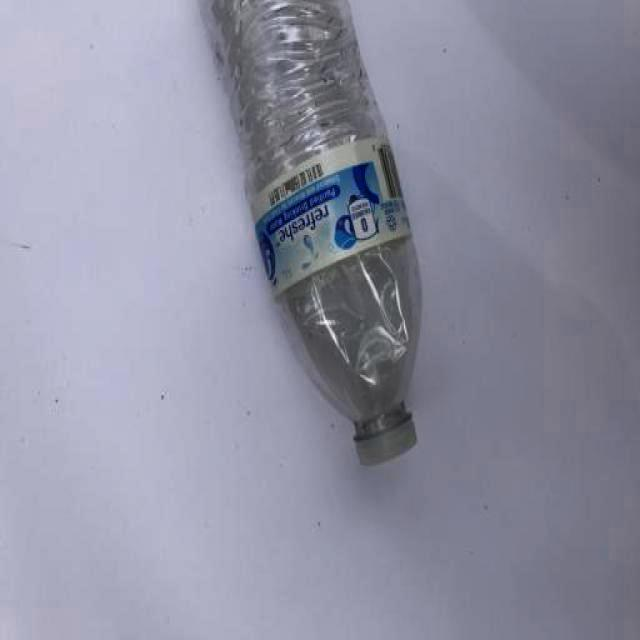bottle: (196, 0, 421, 467)
